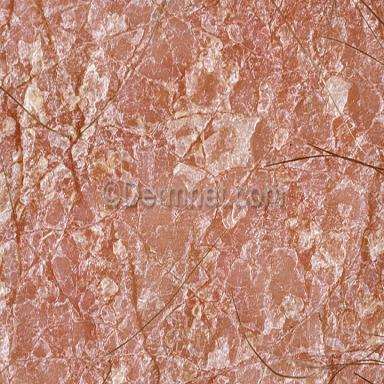Psoriasis: (0, 2, 384, 384)
